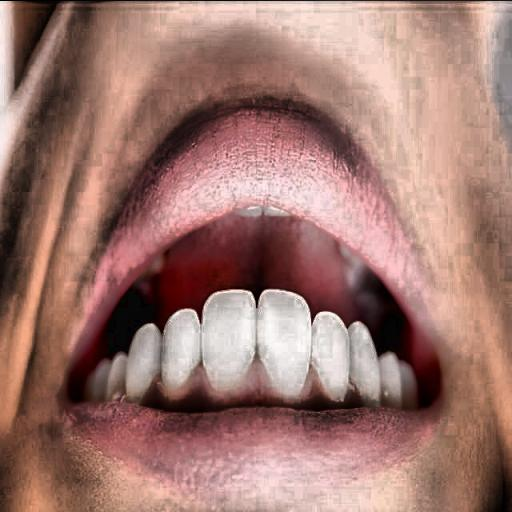Healthy: (35, 92, 399, 452)
